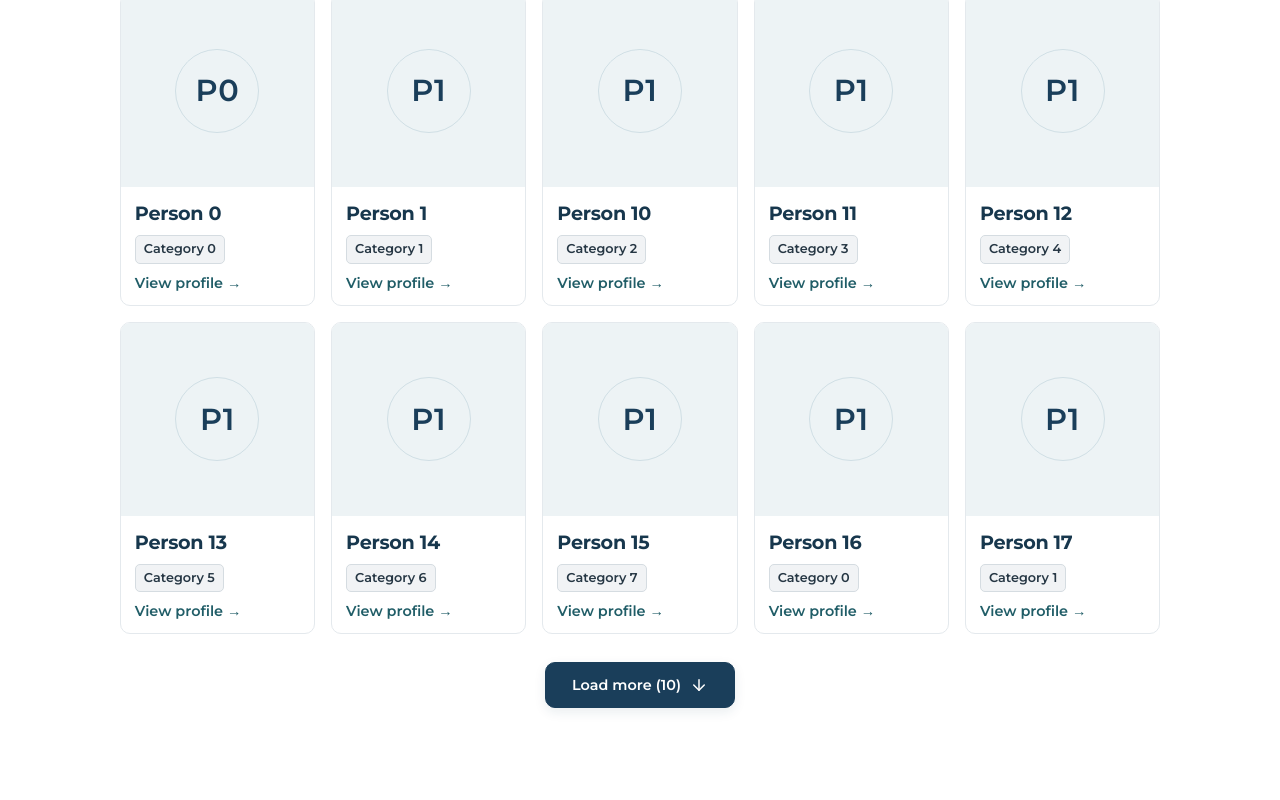
it: mobile starts with ten people and expands by ten
(page scrolled)
Click the button "Load more (10)": (640, 685) [545,662,735,708]
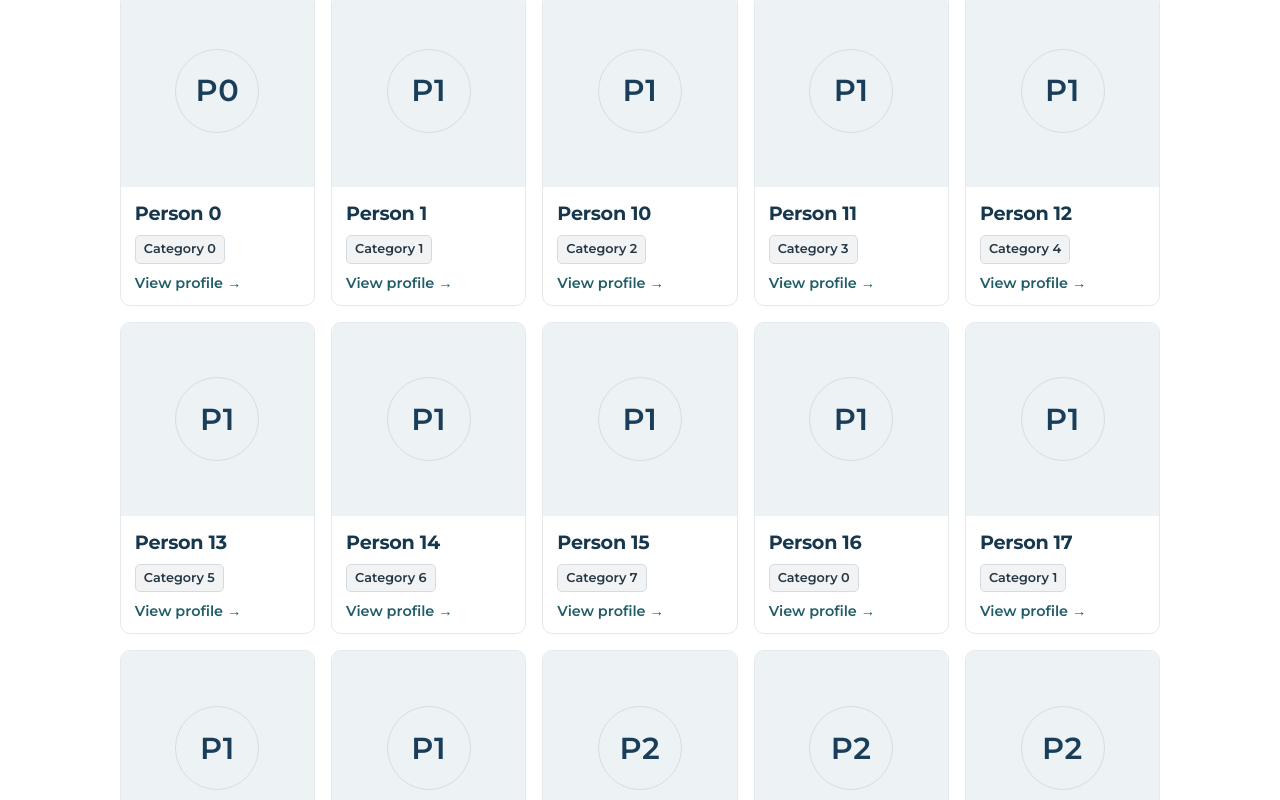
Now the number of links is 20
